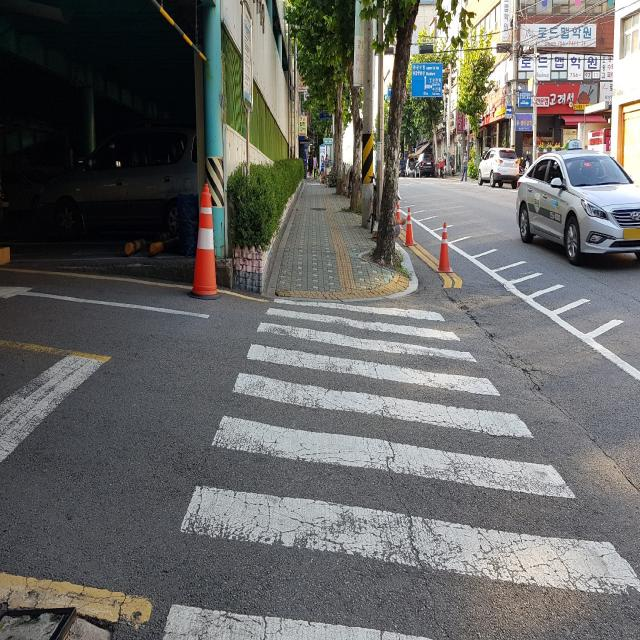횡단보도: (160, 298, 640, 640)
